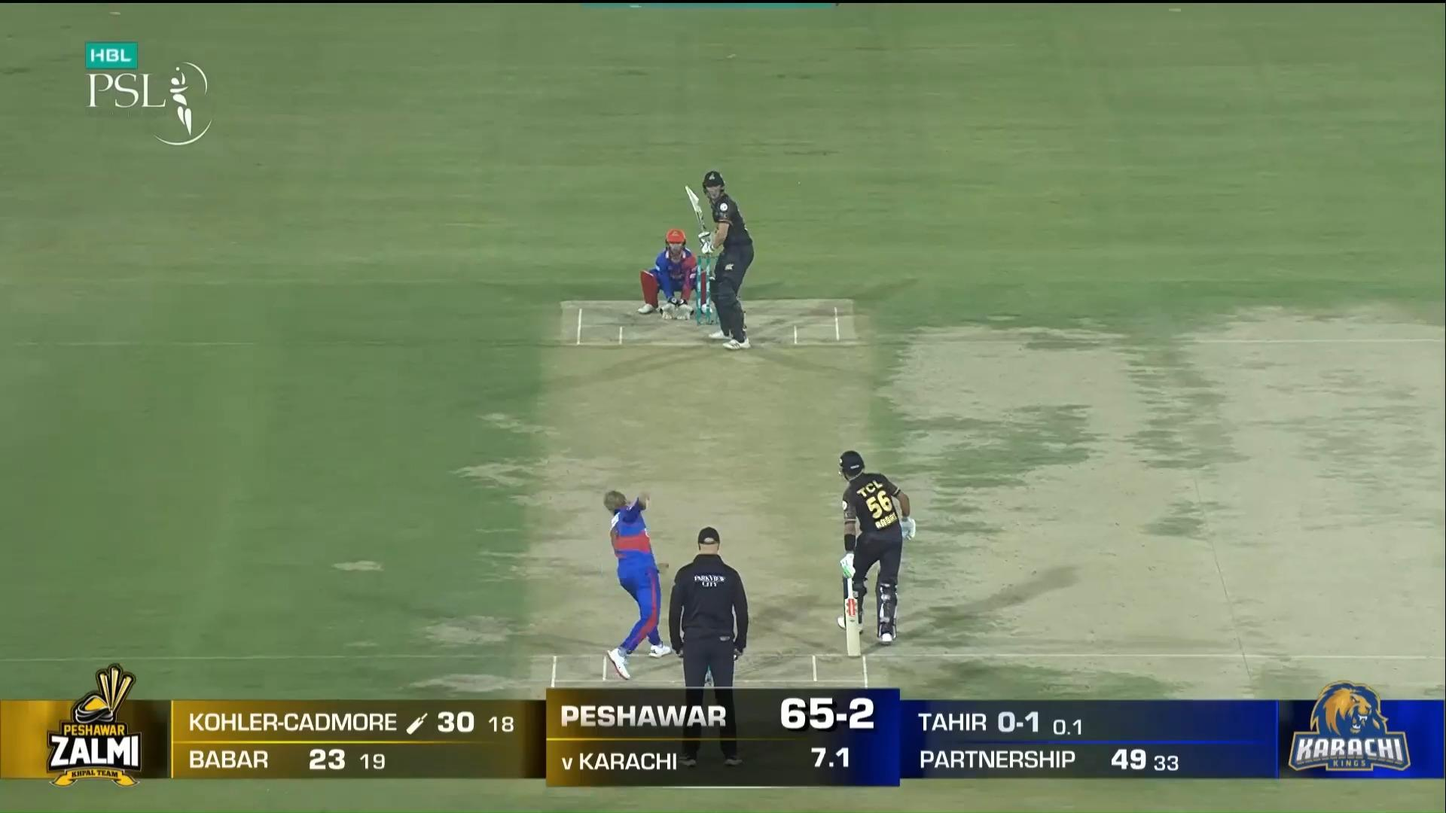batsman: (685, 170, 754, 351)
